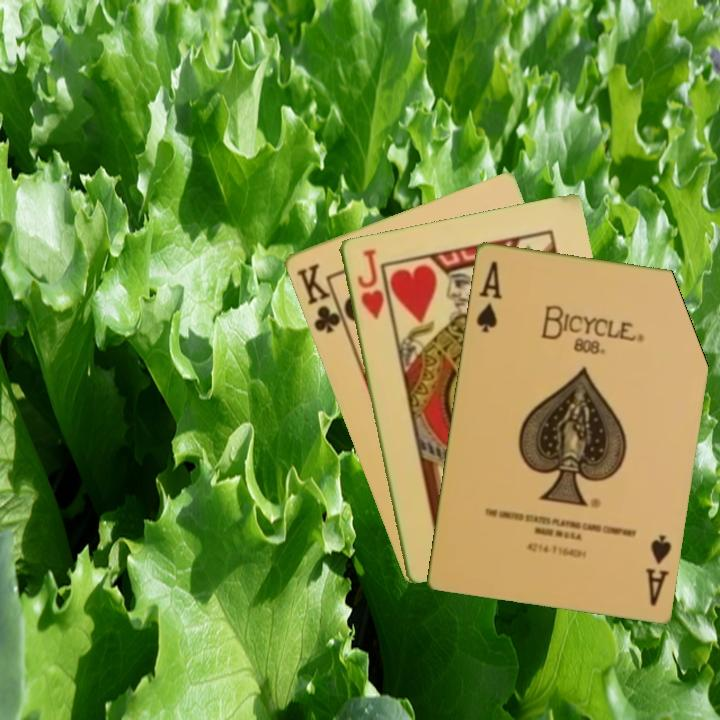As: (472, 257, 504, 335), (642, 531, 674, 608)
Jh: (353, 245, 387, 322)
Kc: (292, 259, 349, 337)
